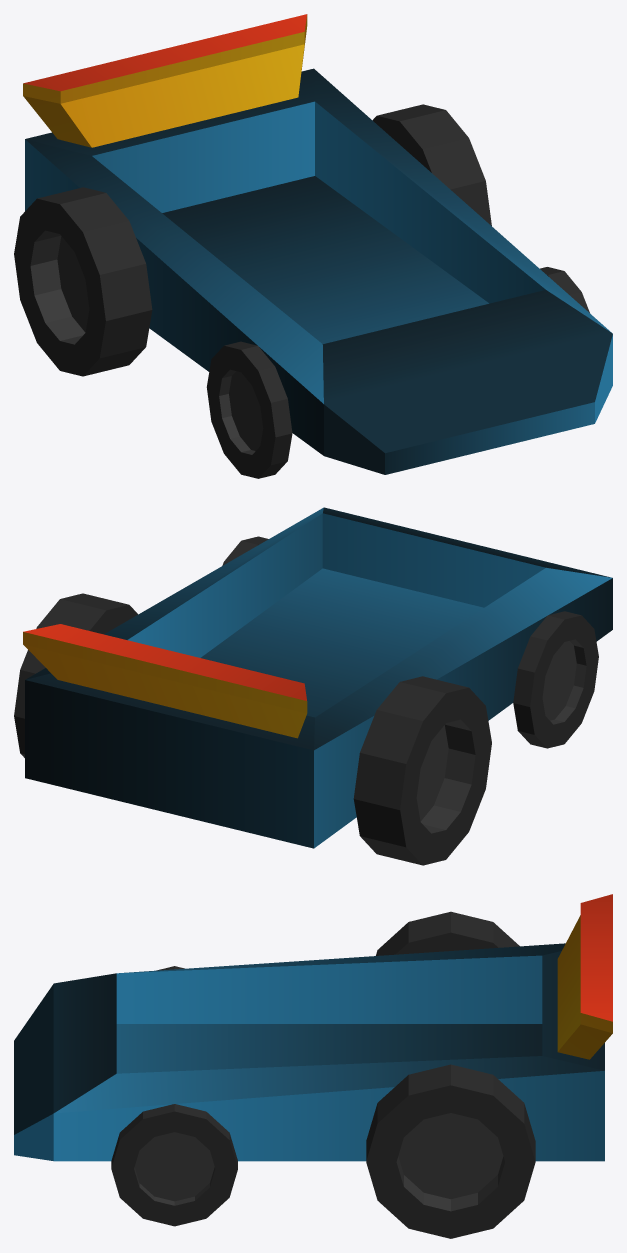
File: carrinho.glb
3 renders of one model, top to bottom at view 1: azimuth 30°, elevation 25°; view 2: azimuth 150°, elevation 25°; view 3: azimuth 270°, elevation 25°, orthographic. The views are drawn at different scales.
Parts seen in each view (by area): view 1: Cube; view 2: Cube; view 3: Cube.
Part boxes in pixels (x1,y1,x2,y2): Cube: [14, 14, 612, 478]; Cube: [14, 507, 612, 865]; Cube: [14, 894, 612, 1238].
Bounding box in the file's own units: 2.67 × 1.4 × 3.89.
1 material, 1 textured.
